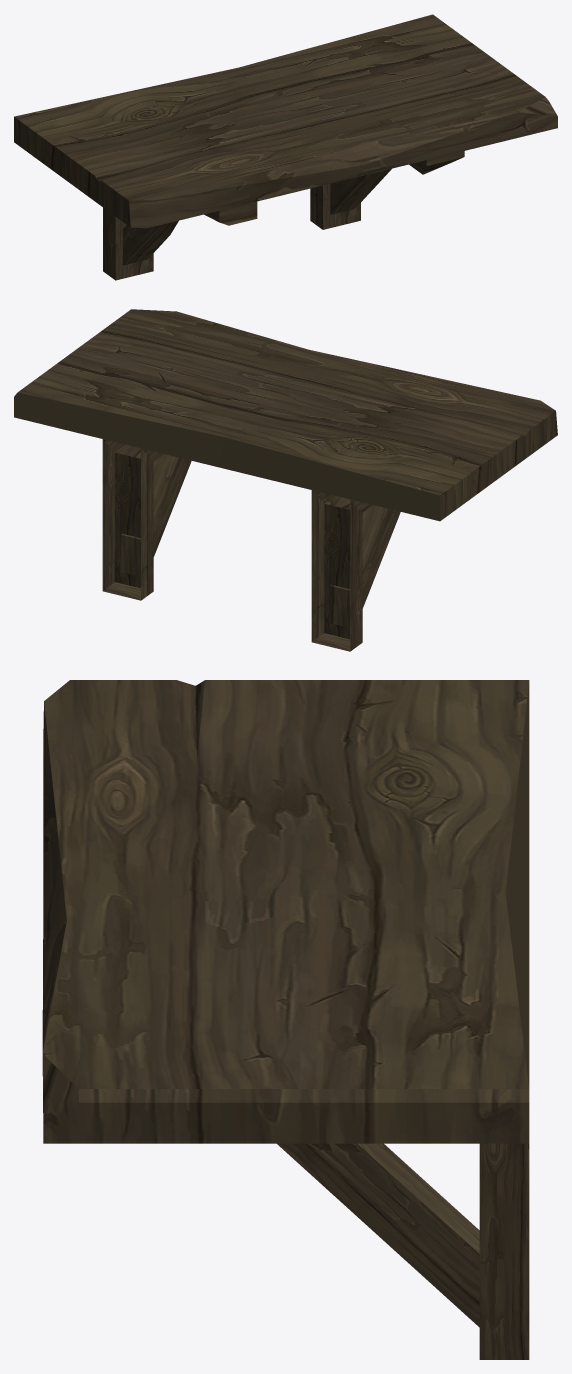
The model's file is SM_Prop_Shelf_02.fbx.
3 views of the same model, one above another, from view 1: azimuth 30°, elevation 25°; view 2: azimuth 150°, elevation 25°; view 3: azimuth 270°, elevation 25° (orthographic). The views are drawn at different scales.
Parts seen in each view (by area): view 1: SM_Prop_Shelf_02; view 2: SM_Prop_Shelf_02; view 3: SM_Prop_Shelf_02.
Boxes of the visible parts, x1=… form: SM_Prop_Shelf_02: x1=14, y1=14, x2=557, y2=280; SM_Prop_Shelf_02: x1=14, y1=309, x2=557, y2=651; SM_Prop_Shelf_02: x1=42, y1=680, x2=529, y2=1359.
Bounding box in the file's own units: 88.1 × 35.2 × 43.96.
